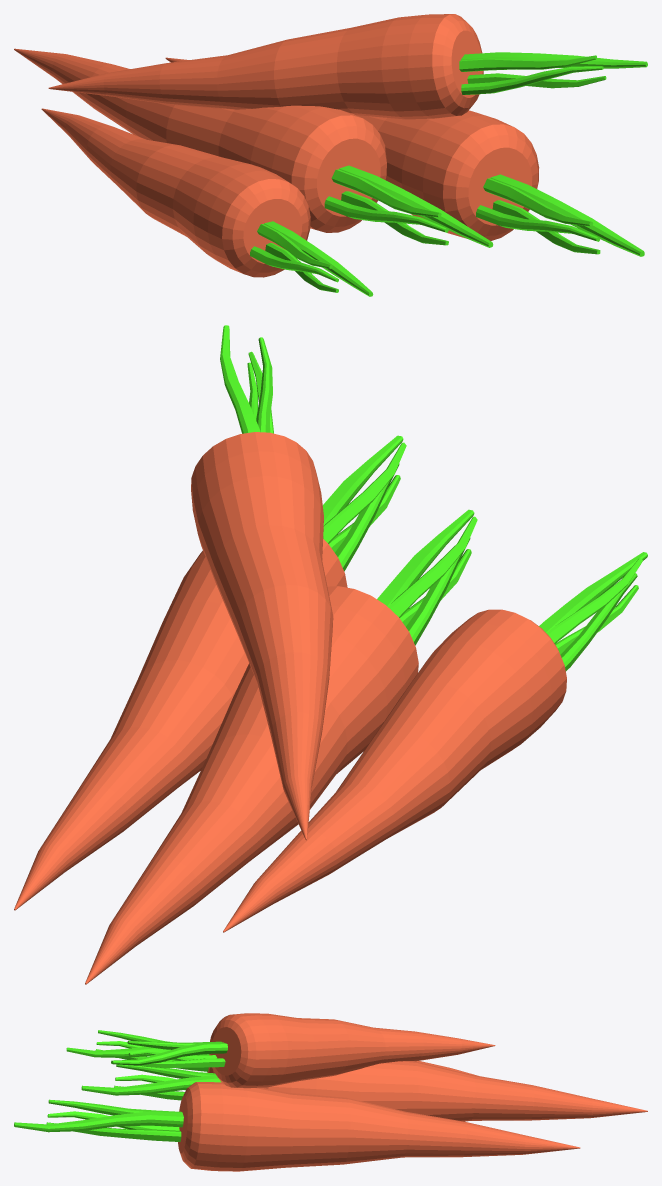
Rendered from b37df6e1-07b9-4606-9d2d-adcbe7991fe7.glb.
The picture shows the model from 3 angles, top to bottom: view 1: azimuth 30°, elevation 25°; view 2: azimuth 150°, elevation 25°; view 3: azimuth 270°, elevation 25°; orthographic projection. The views are drawn at different scales.
Visible parts, largest first — view 1: Cylinder006, Cylinder004, Cylinder003, Cylinder005, Box20186, Box20190, Box20184, Box20188, Box20191, Box20194, Box20192, Box20183 (+8 smaller); view 2: Cylinder003, Cylinder004, Cylinder006, Cylinder005, Box20186, Box20190, Box20183, Box20187, Box20194, Box20179, Box20182, Box20188 (+3 smaller); view 3: Cylinder005, Cylinder006, Cylinder004, Box20190, Box20186, Box20194, Box20189, Box20187, Box20179, Box20193, Box20183, Box20188 (+5 smaller).
Part boxes in pixels (x1=…): Cylinder006: x1=48, y1=14, x2=483, y2=119; Cylinder004: x1=14, y1=48, x2=386, y2=232; Cylinder003: x1=41, y1=108, x2=310, y2=277; Cylinder005: x1=165, y1=57, x2=539, y2=240; Box20186: x1=339, y1=165, x2=493, y2=247; Box20190: x1=490, y1=174, x2=644, y2=256; Box20184: x1=324, y1=196, x2=448, y2=232; Box20188: x1=476, y1=205, x2=600, y2=241; Box20191: x1=459, y1=55, x2=596, y2=71; Box20194: x1=461, y1=52, x2=647, y2=68; Box20192: x1=461, y1=66, x2=603, y2=94; Box20183: x1=331, y1=169, x2=441, y2=217; Cylinder003: x1=223, y1=609, x2=566, y2=932; Cylinder004: x1=85, y1=586, x2=418, y2=984; Cylinder006: x1=191, y1=432, x2=333, y2=840; Cylinder005: x1=14, y1=539, x2=347, y2=910; Box20186: x1=377, y1=509, x2=474, y2=606; Box20190: x1=322, y1=435, x2=403, y2=525; Box20183: x1=388, y1=516, x2=477, y2=617; Box20187: x1=323, y1=442, x2=406, y2=543; Box20194: x1=220, y1=325, x2=260, y2=433; Box20179: x1=539, y1=552, x2=647, y2=632; Box20182: x1=546, y1=558, x2=642, y2=643; Box20188: x1=335, y1=463, x2=399, y2=571; Cylinder005: x1=178, y1=1082, x2=580, y2=1171; Cylinder006: x1=209, y1=1013, x2=495, y2=1088; Cylinder004: x1=262, y1=1061, x2=647, y2=1121; Box20190: x1=14, y1=1111, x2=183, y2=1132; Box20186: x1=81, y1=1075, x2=221, y2=1095; Box20194: x1=111, y1=1042, x2=227, y2=1065; Box20189: x1=46, y1=1122, x2=181, y2=1141; Box20187: x1=48, y1=1099, x2=182, y2=1115; Box20179: x1=66, y1=1047, x2=209, y2=1057; Box20193: x1=140, y1=1058, x2=225, y2=1068; Box20183: x1=116, y1=1064, x2=215, y2=1078; Box20188: x1=47, y1=1111, x2=179, y2=1130.
Bounding box in the file's own units: 456 × 261 × 988.
